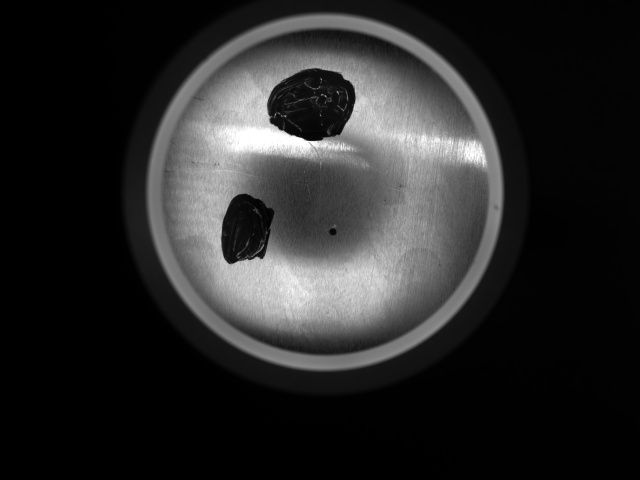zang_wu: (265, 68, 357, 142), (220, 192, 277, 264)
zhen_kong: (327, 224, 339, 238)
